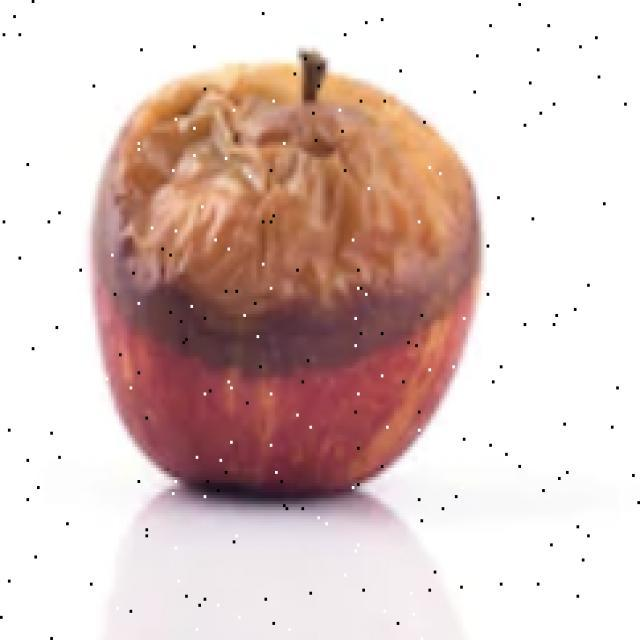Rotten: (100, 68, 508, 510)
